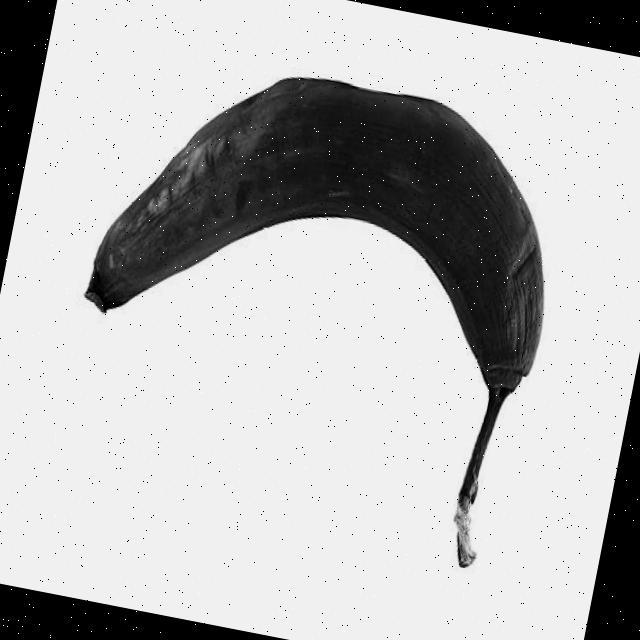Rotten: (55, 38, 580, 521)
